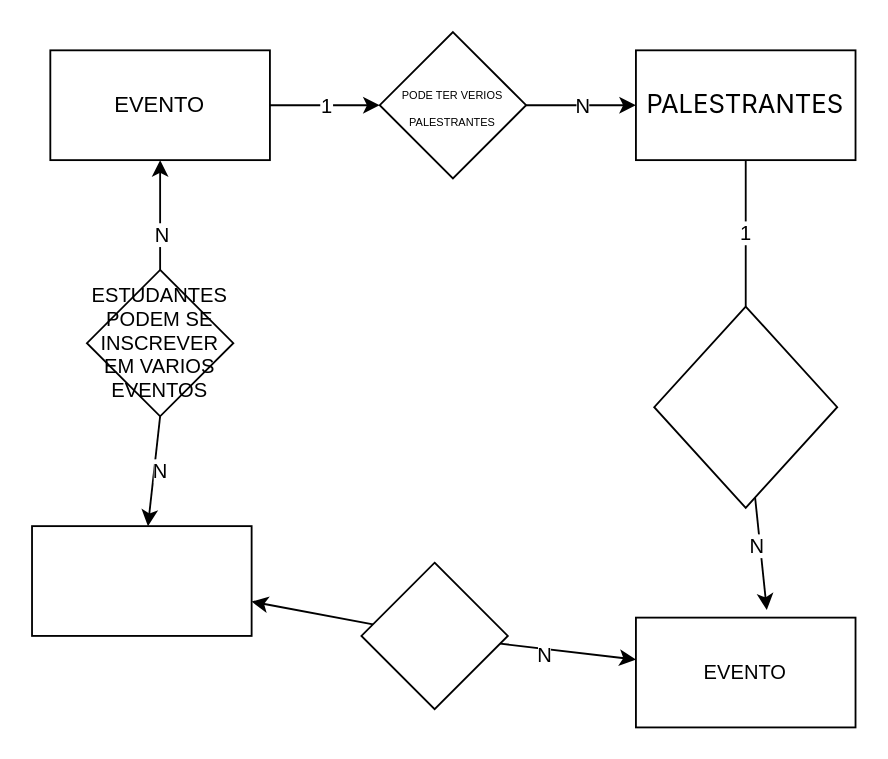
The diagram is 888 pixels wide and 759 high, and some of its shapes have lost their labels. The shapes that lost their labels are listed below. From the top down, each one's centre as x and y in pixels, then its label:
At (744,406): "UM PALESTRANTES PODE PARTICIPAR DE VARIOS EVENTOS".
At (141,580): "ESTUDANTES".
At (434,635): "UM EVENTO PODE TER VARIAS INSCRIÇÕES".
